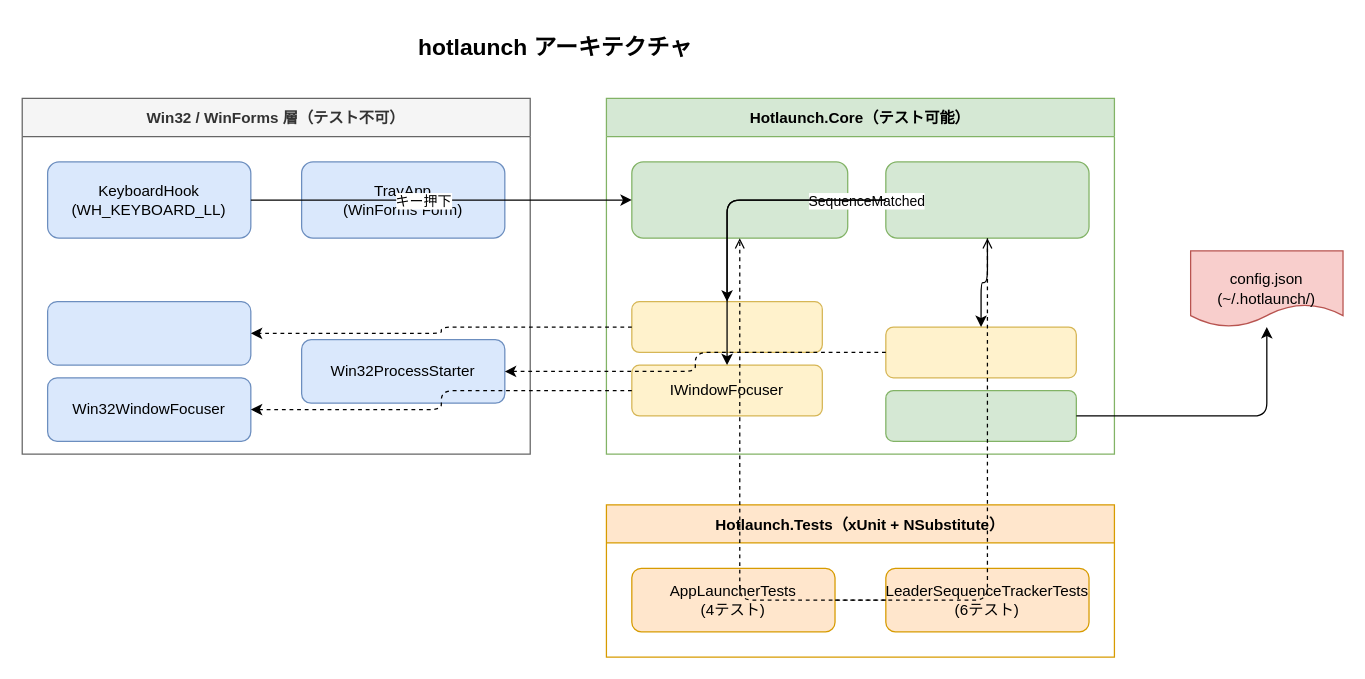
This 1365x679 diagram has some shape labels left out. Here are the shapes that lost their labels. From the top down, the centre of each, then its label:
the point at 739,199: LeaderSequenceTracker (状態機械)
the point at 987,199: AppLauncher
the point at 148,332: Win32ProcessFinder
the point at 726,326: IProcessFinder
the point at 980,352: IProcessStarter
the point at 980,415: ConfigManager
